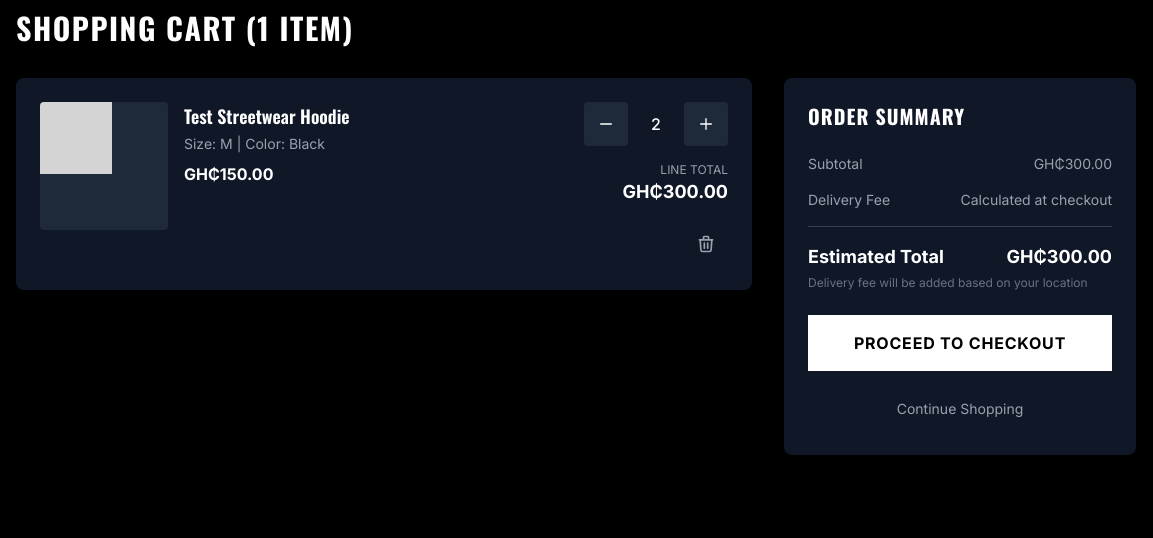
Test: CartPage › Remove Item (Requirements: 1.3) › removes item when remove button is clicked
The width and height of the screenshot is (1153, 538).
Click the button named "Remove Test Streetwear Hoodie from cart": (706, 244) [684,222,728,266]
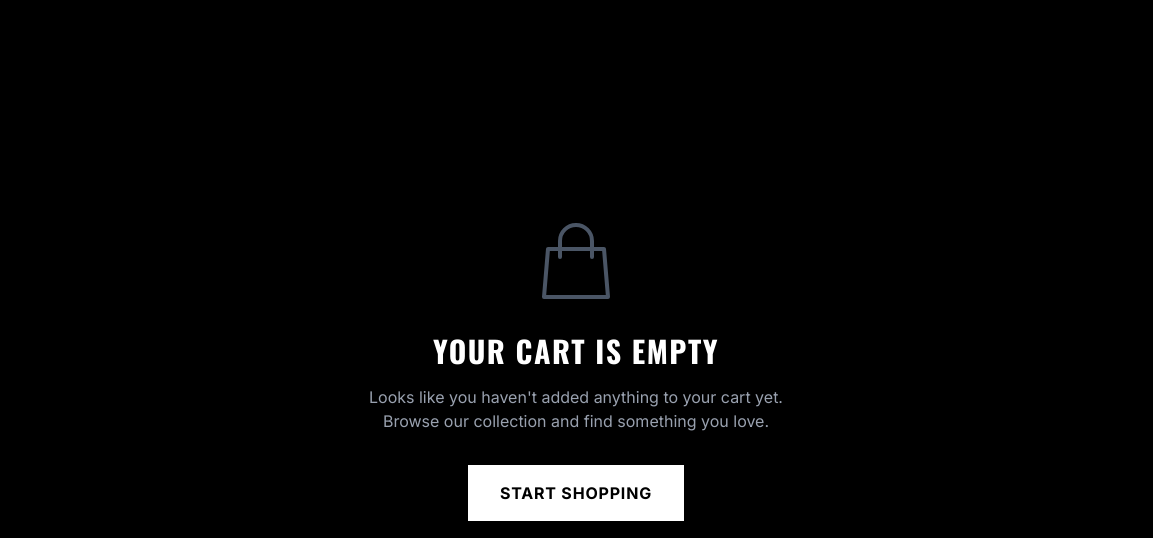
Expected: the heading "Your Cart is Empty" is shown, [433,328,719,373]
